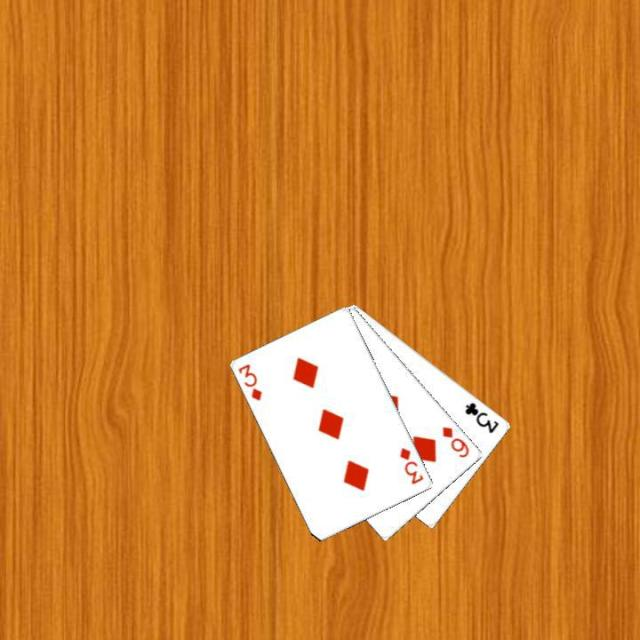3C: (462, 398, 502, 436)
3D: (396, 444, 426, 486), (235, 360, 264, 403)
6D: (438, 423, 471, 460)
